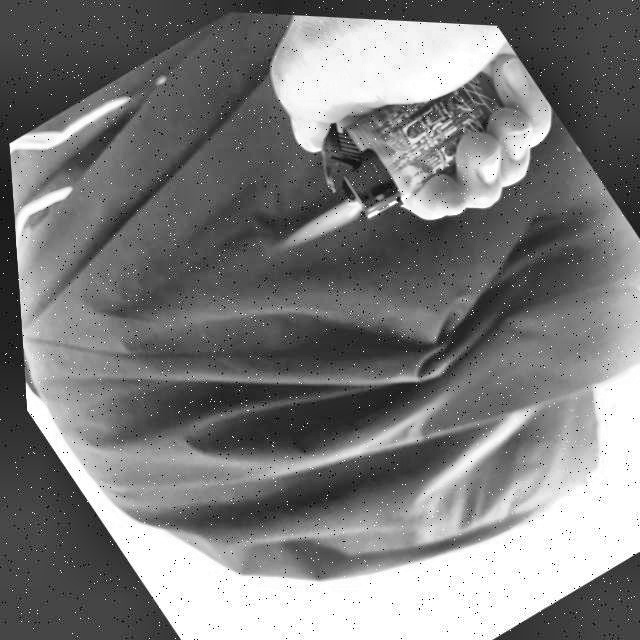Fire: (273, 190, 360, 257)
